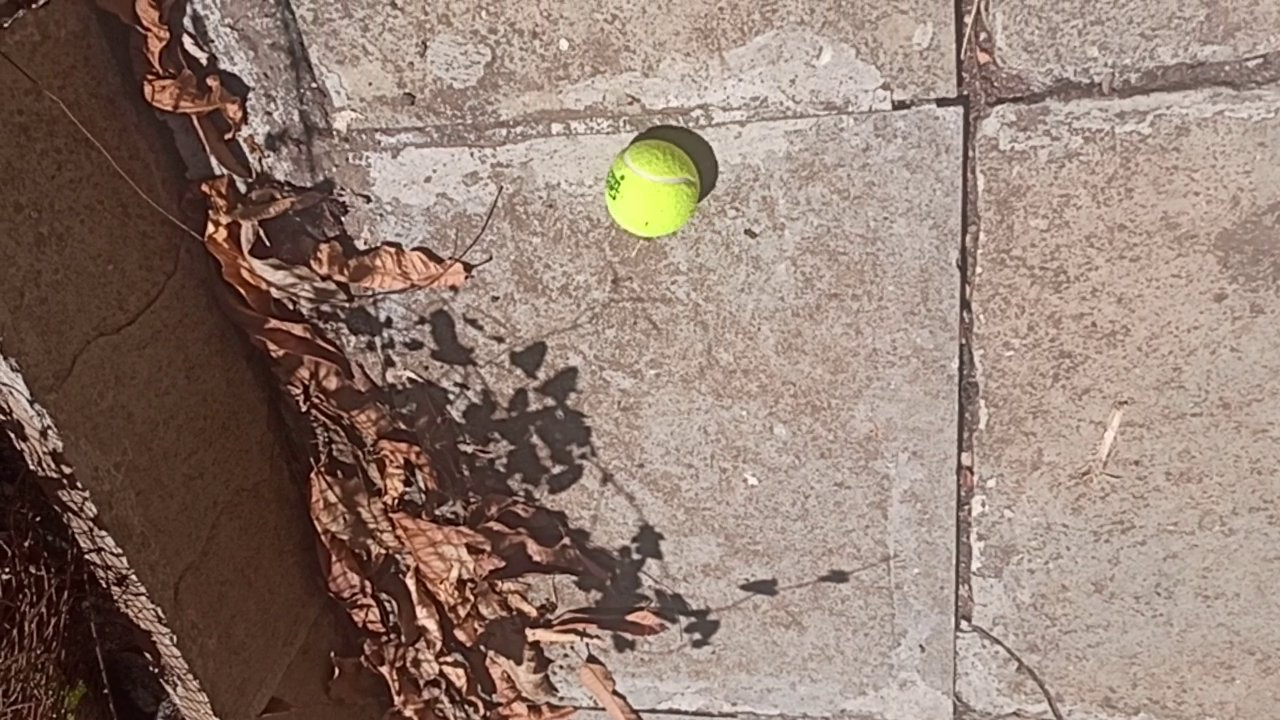Tennis-Ball: (605, 139, 700, 236)
